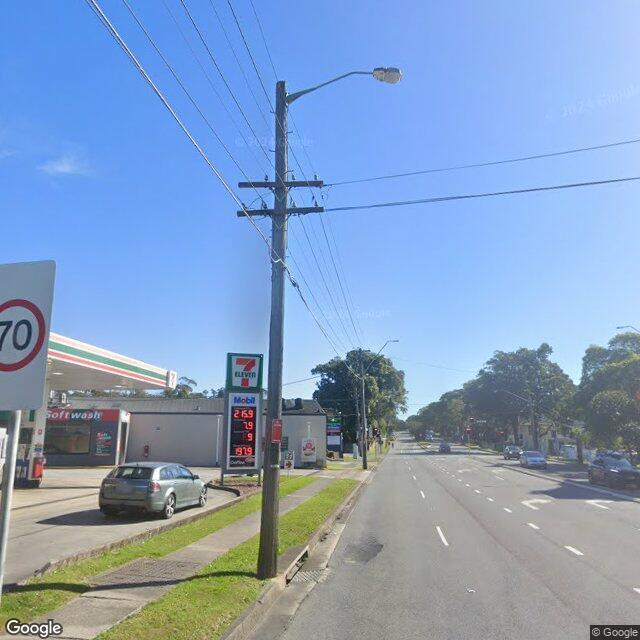crossarm: (236, 205, 325, 217), (238, 178, 323, 188)
streetlight: (285, 66, 402, 104), (362, 339, 400, 375)
timber-pole: (257, 81, 289, 579), (359, 347, 367, 469)
